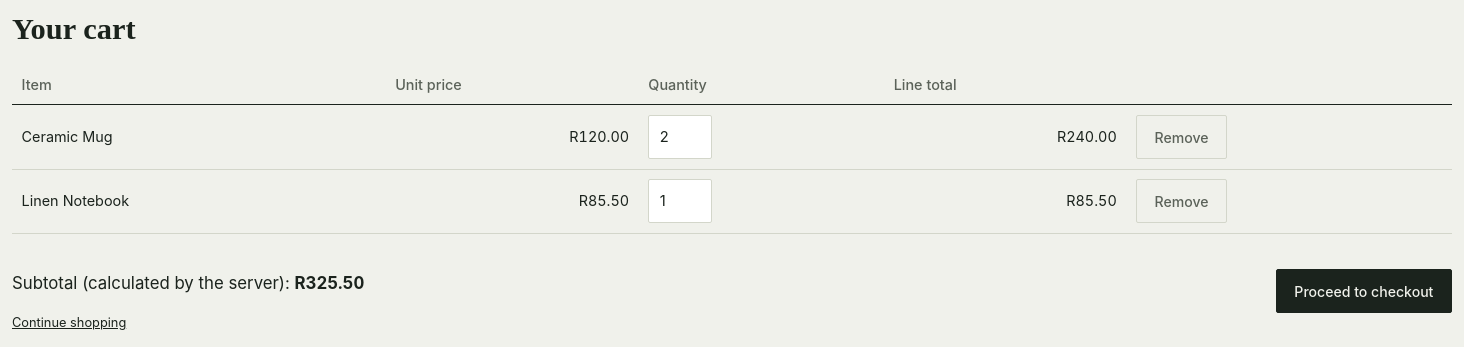
Scenario: CartPage item removal › disables only the affected row while its request is in flight
The image size is (1464, 347).
Expected: the text "Ceramic Mug" is shown, [12,105,386,169]
Click the button "Remove" in the row of "Ceramic Mug" at x=1182, y=137, box [1136,115,1227,159]
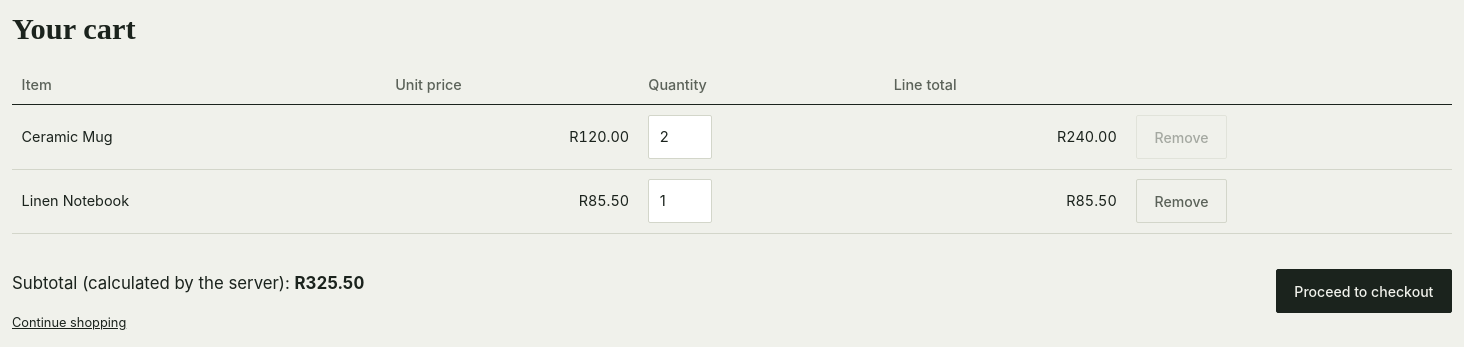
Expected: the button "Remove" in the row of "Linen Notebook" is enabled, [1136,179,1227,223]
Result: the button "Remove" in the row of "Ceramic Mug" is disabled at [1136,115,1227,159]
